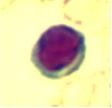lymphocyte: (28, 22, 89, 80)
